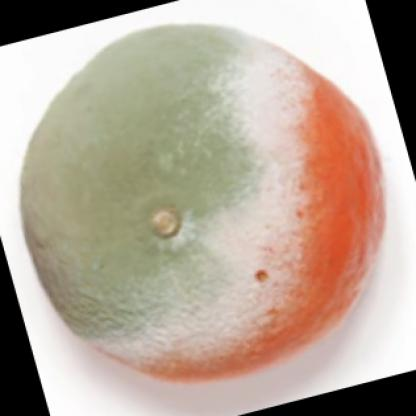rotten_orange: (9, 19, 392, 388)
